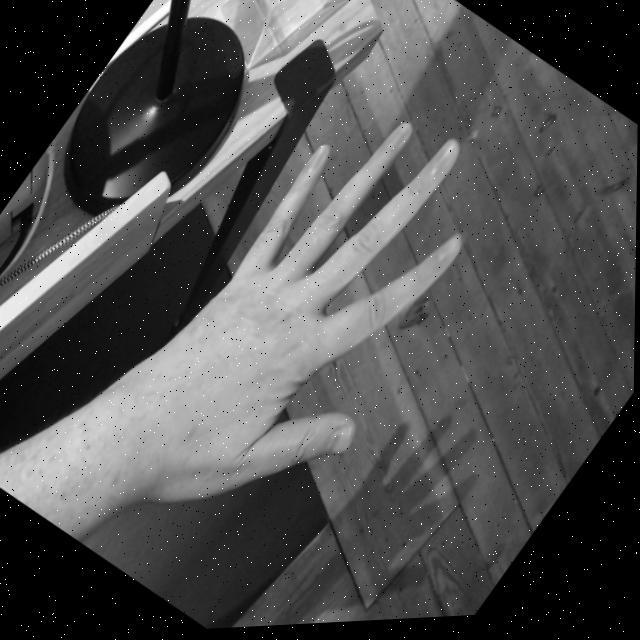no-gloves: (91, 68, 538, 581)
